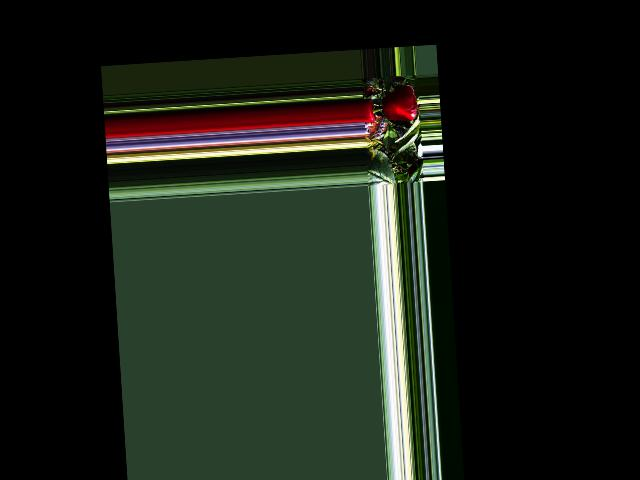bell_pepper: (361, 96, 378, 125)
